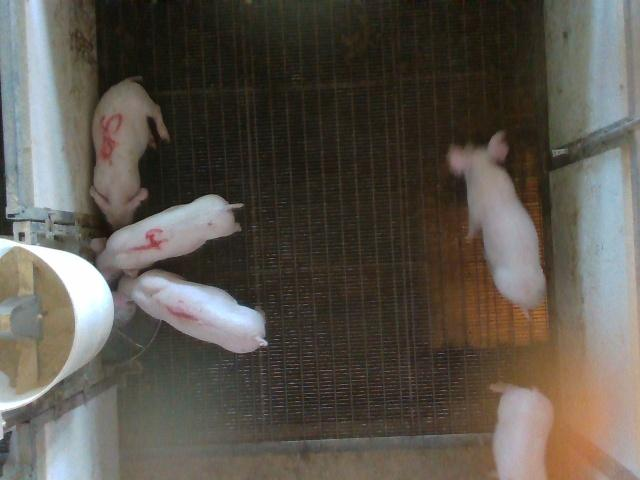pig-1: (119, 269, 268, 353)
pig-4: (99, 195, 241, 270)
pig-5: (90, 76, 170, 229)
